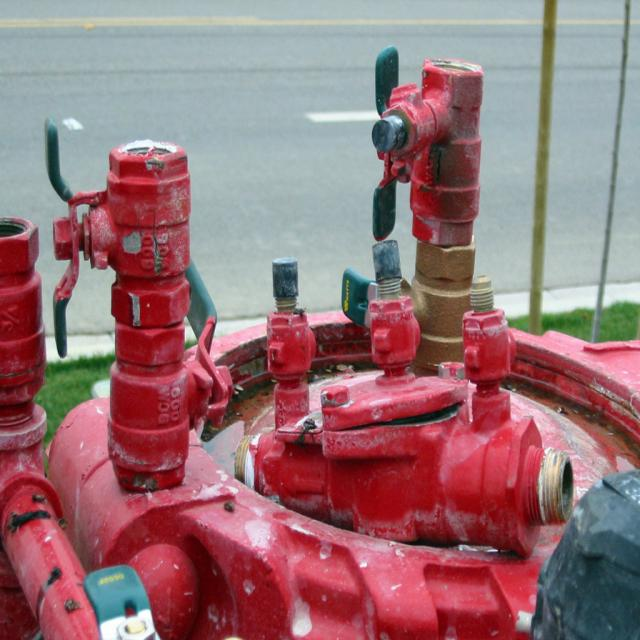fire_hydrant: (0, 48, 638, 640)
